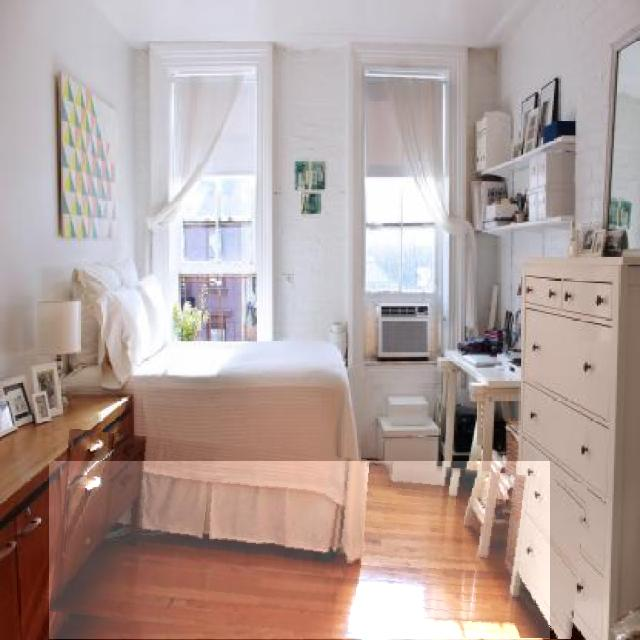floor: (50, 462, 550, 639)
